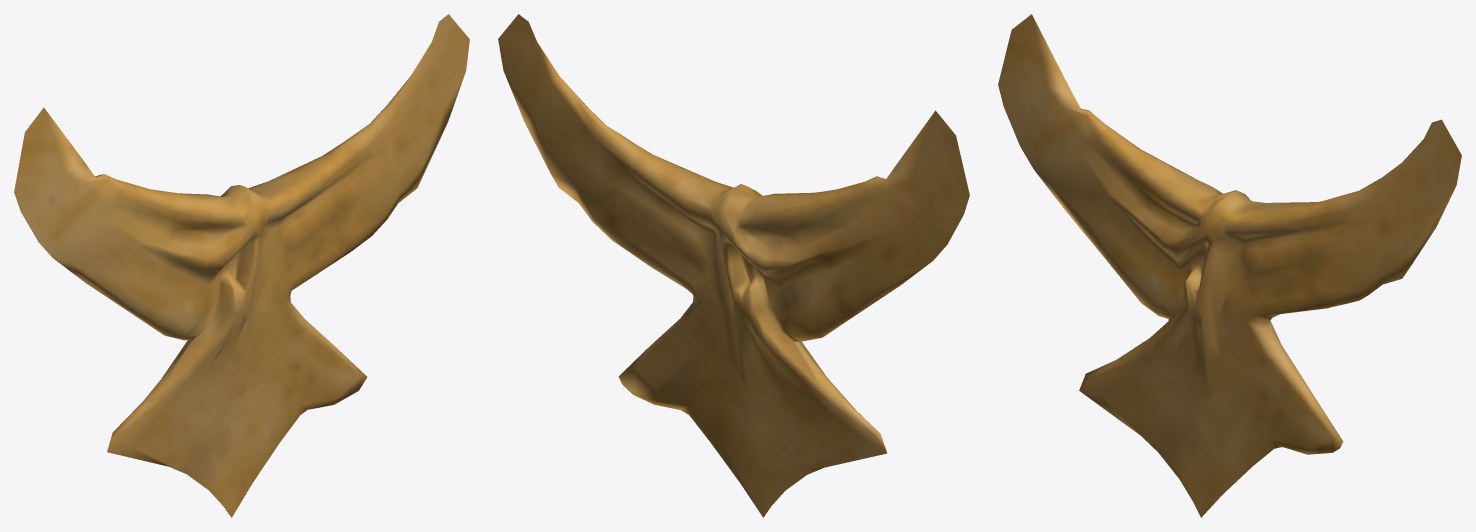
Rendered from Middle.002.fbx.
3 renders of one model, left to right at view 1: azimuth 30°, elevation 25°; view 2: azimuth 150°, elevation 25°; view 3: azimuth 330°, elevation 25°, orthographic. The views are drawn at different scales.
Parts seen in each view (by area): view 1: Middle.002_Baked; view 2: Middle.002_Baked; view 3: Middle.002_Baked.
Part boxes in pixels (x1,y1,x2,y2): Middle.002_Baked: (14, 14, 469, 517); Middle.002_Baked: (498, 14, 969, 517); Middle.002_Baked: (998, 14, 1461, 517).
Bounding box in the file's own units: 87.8 × 81.98 × 11.2.
